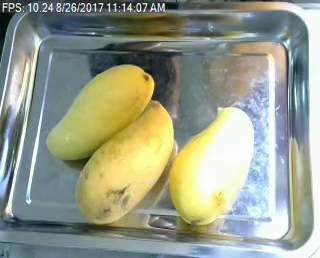Mango: (74, 96, 178, 223), (167, 103, 262, 228), (43, 62, 157, 166)
